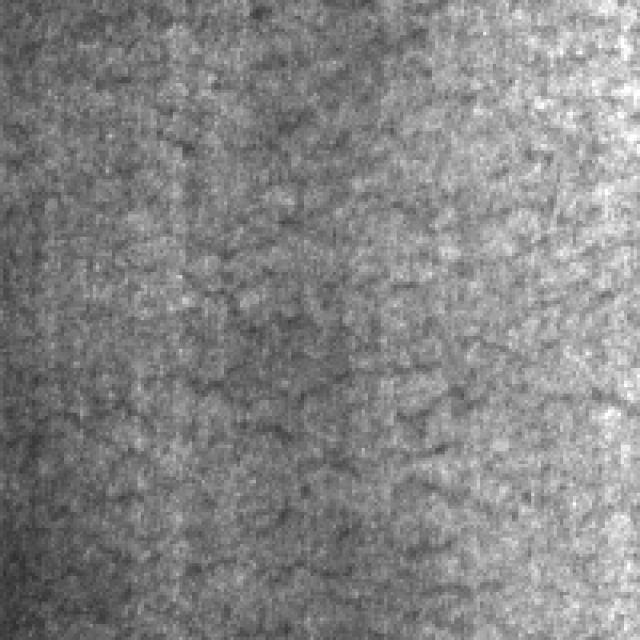crazing: (29, 307, 637, 576)
